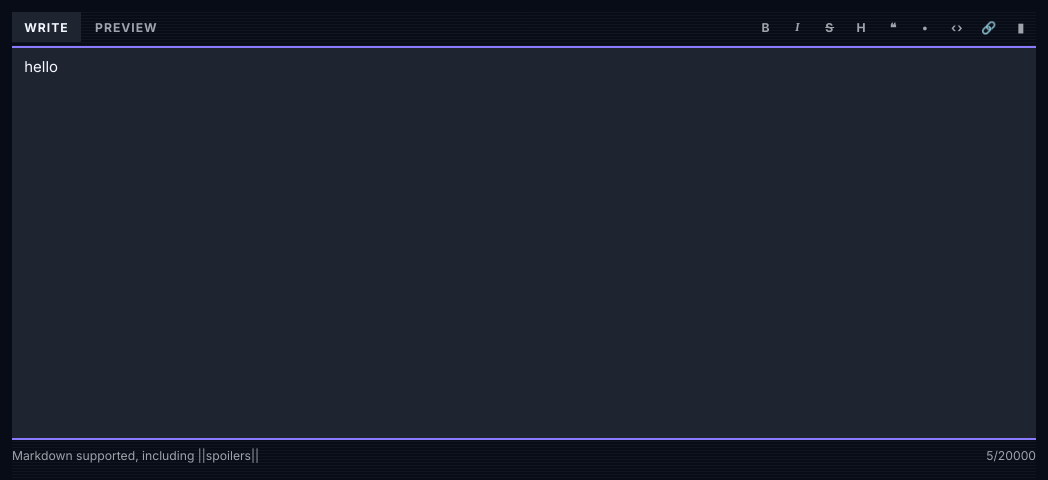
Test case: MarkdownEditor › toolbar › prefixes a line for quotes and lists
The width and height of the screenshot is (1048, 480).
Click the button named "Quote": (894, 27) [878,12,908,42]
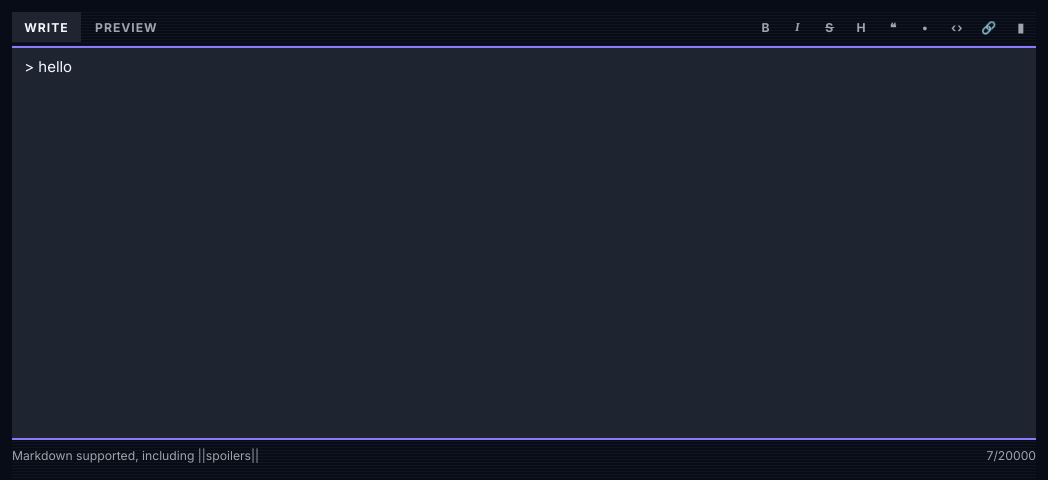
Check: the text box holds "> hello"
